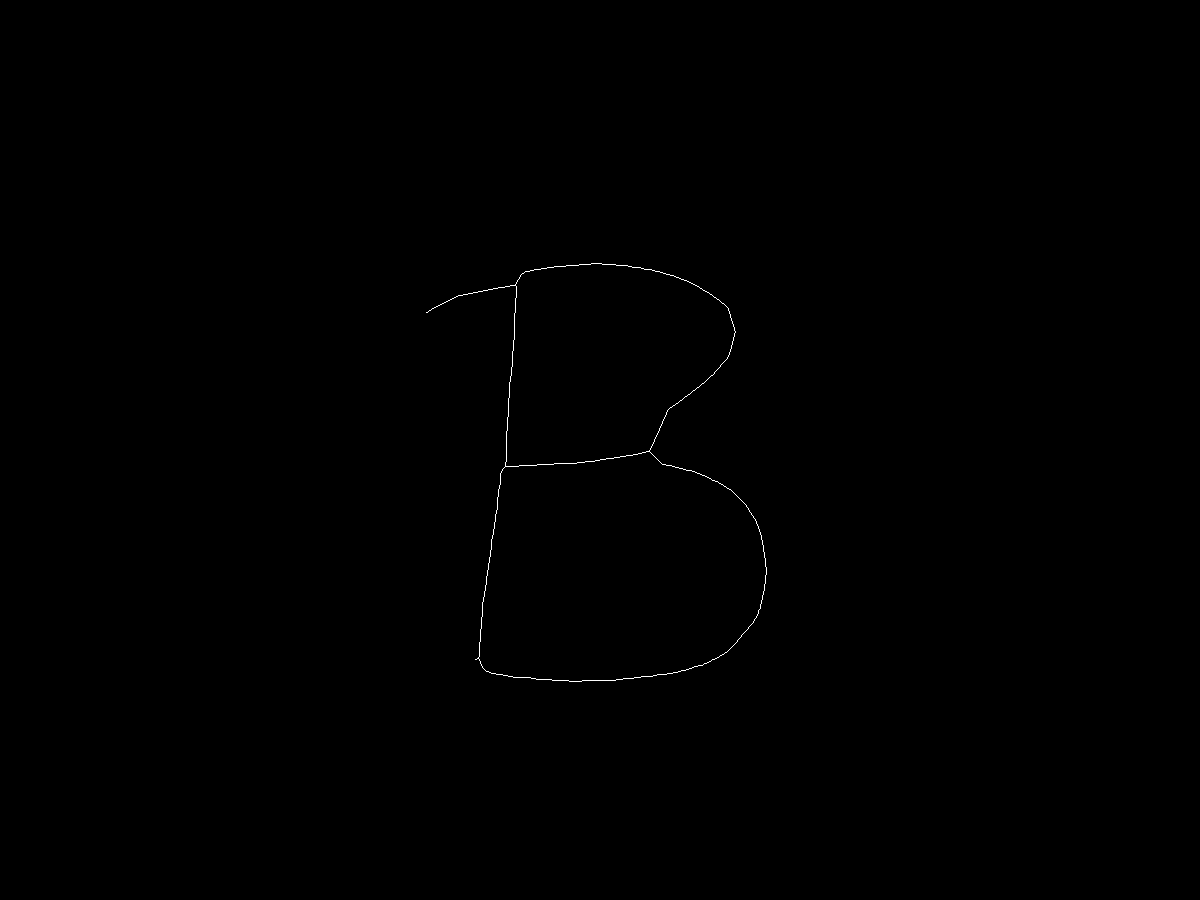dian1: (504, 275, 526, 297)
dian2: (497, 458, 513, 474)
dian3: (475, 659, 494, 678)
dian4: (640, 444, 655, 459)
